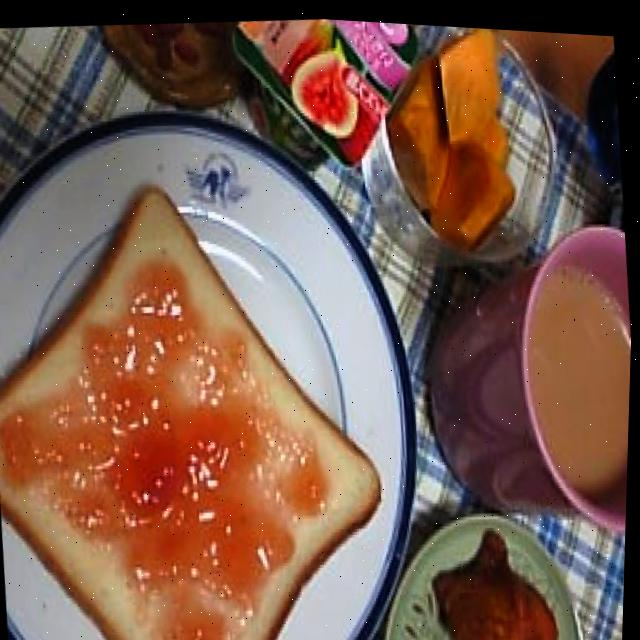面包点心: (0, 166, 413, 640)
